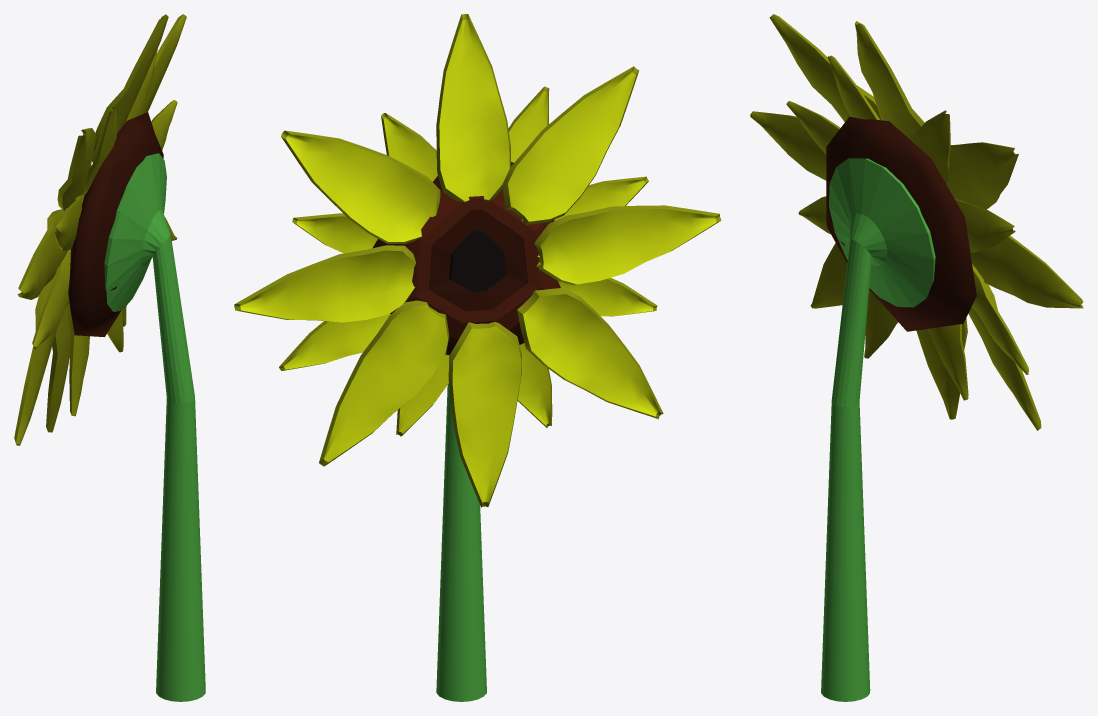
Rendered from sunflowerv1.fbx.
3 renders of one model, left to right at view 1: azimuth 30°, elevation 25°; view 2: azimuth 150°, elevation 25°; view 3: azimuth 270°, elevation 25°, orthographic. The views are drawn at different scales.
Visible parts, largest first — view 1: sunflower; view 2: sunflower; view 3: sunflower.
Boxes of the visible parts, box(x1,y1,x2,y2) form: sunflower: box(14, 14, 205, 701); sunflower: box(234, 14, 721, 701); sunflower: box(750, 14, 1083, 701).
Bounding box in the file's own units: 1.03 × 2.12 × 0.9625.
